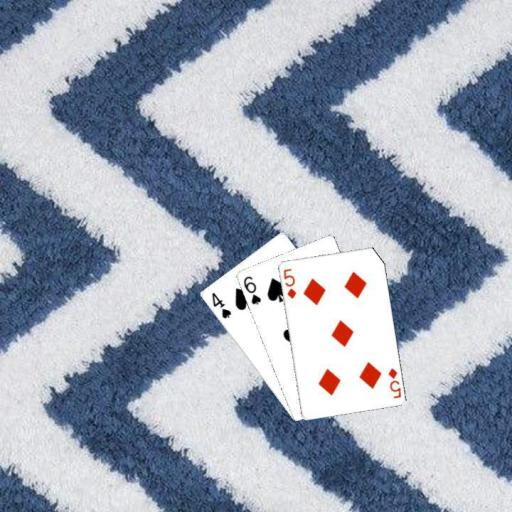4S: (209, 289, 233, 320)
5D: (385, 364, 403, 400), (280, 265, 297, 300)
6S: (241, 273, 263, 306)
